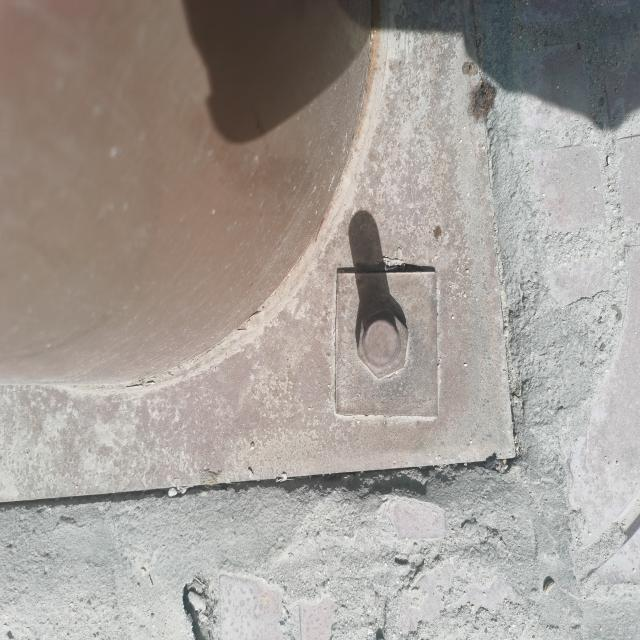Regular bolt: (358, 308, 410, 382)
